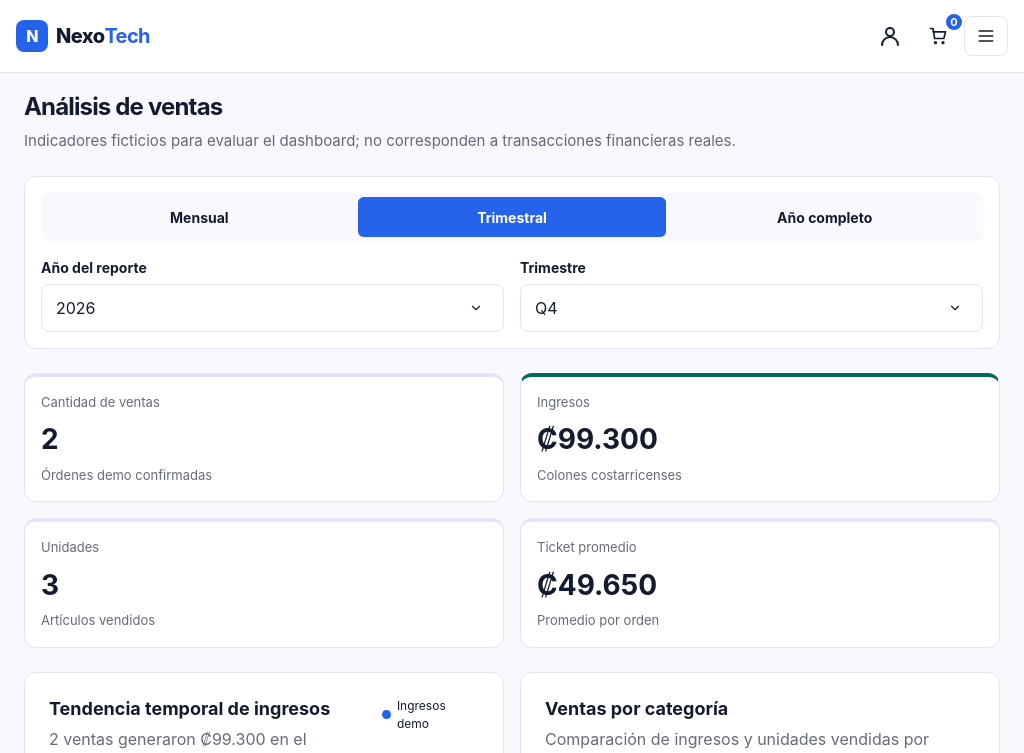
SalesDashboardPage compartido › actualiza KPIs al cambiar de trimestre a año completo
Expected: the heading "Análisis de ventas" is shown, x1=24 y1=92 x2=222 y2=121
Expected: the text "Cantidad de ventas" is shown, x1=41 y1=394 x2=160 y2=410
Click the button "Año completo".
click(825, 217)  # box x1=670 y1=197 x2=979 y2=237
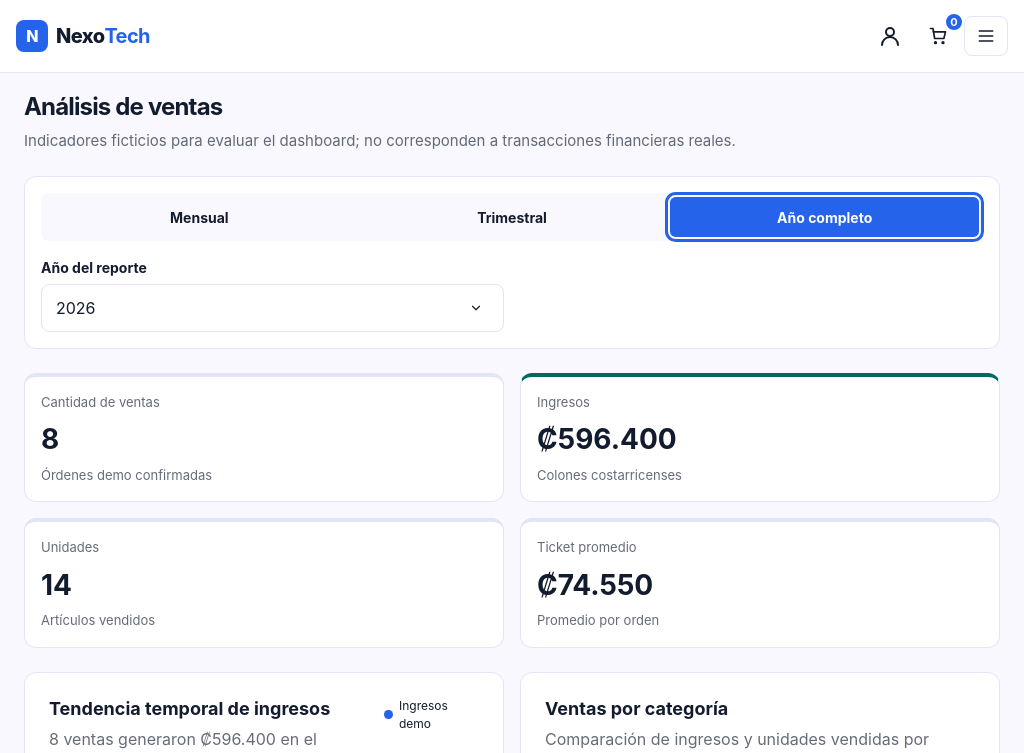
Result: the text "8" is shown at x1=41 y1=422 x2=59 y2=456
Result: the text "₡596.400" is shown at x1=537 y1=422 x2=677 y2=456
